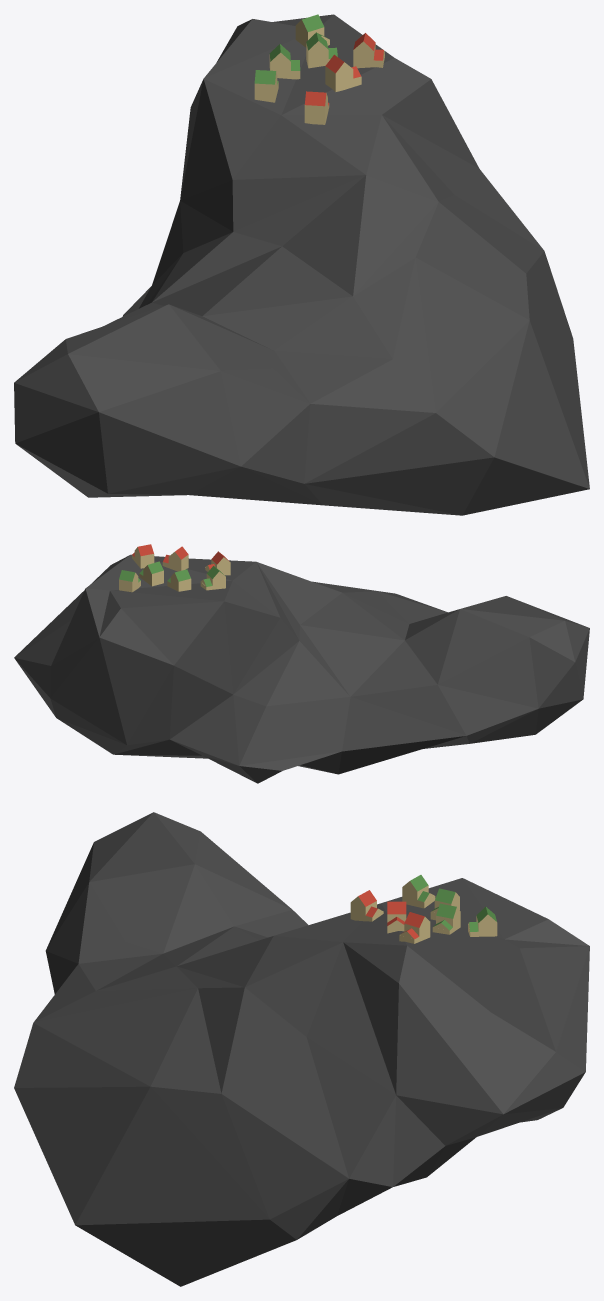
Rendered from island.glb.
The picture shows the model from 3 angles, top to bottom: view 1: azimuth 30°, elevation 25°; view 2: azimuth 150°, elevation 25°; view 3: azimuth 270°, elevation 25°; orthographic projection. The views are drawn at different scales.
Visible parts, largest first — view 1: base rock, house, house.004, house.001, house.005, house.002, house.006, house.003; view 2: base rock, house, house.002, house.006, house.001, house.004, house.003, house.005; view 3: base rock, house.006, house.005, house.004, house.002, house.003.
Boxes of the visible parts, x1,y1,x2,y2 form: base rock: [14, 14, 589, 515]; house: [325, 54, 361, 91]; house.004: [353, 33, 384, 68]; house.001: [269, 44, 300, 79]; house.005: [304, 91, 329, 124]; house.002: [306, 32, 337, 68]; house.006: [254, 70, 278, 102]; house.003: [295, 14, 329, 47]; base rock: [14, 554, 589, 783]; house: [162, 546, 188, 571]; house.002: [139, 561, 163, 586]; house.006: [200, 565, 225, 590]; house.001: [167, 569, 191, 591]; house.004: [132, 544, 154, 568]; house.003: [119, 570, 140, 592]; house.005: [205, 551, 230, 575]; base rock: [14, 812, 589, 1286]; house.006: [402, 875, 435, 908]; house.005: [350, 890, 383, 921]; house.004: [399, 912, 430, 943]; house.002: [432, 903, 460, 934]; house.003: [468, 906, 497, 936].
Bounding box in the file's own units: 19.51 × 11.3 × 17.16.
